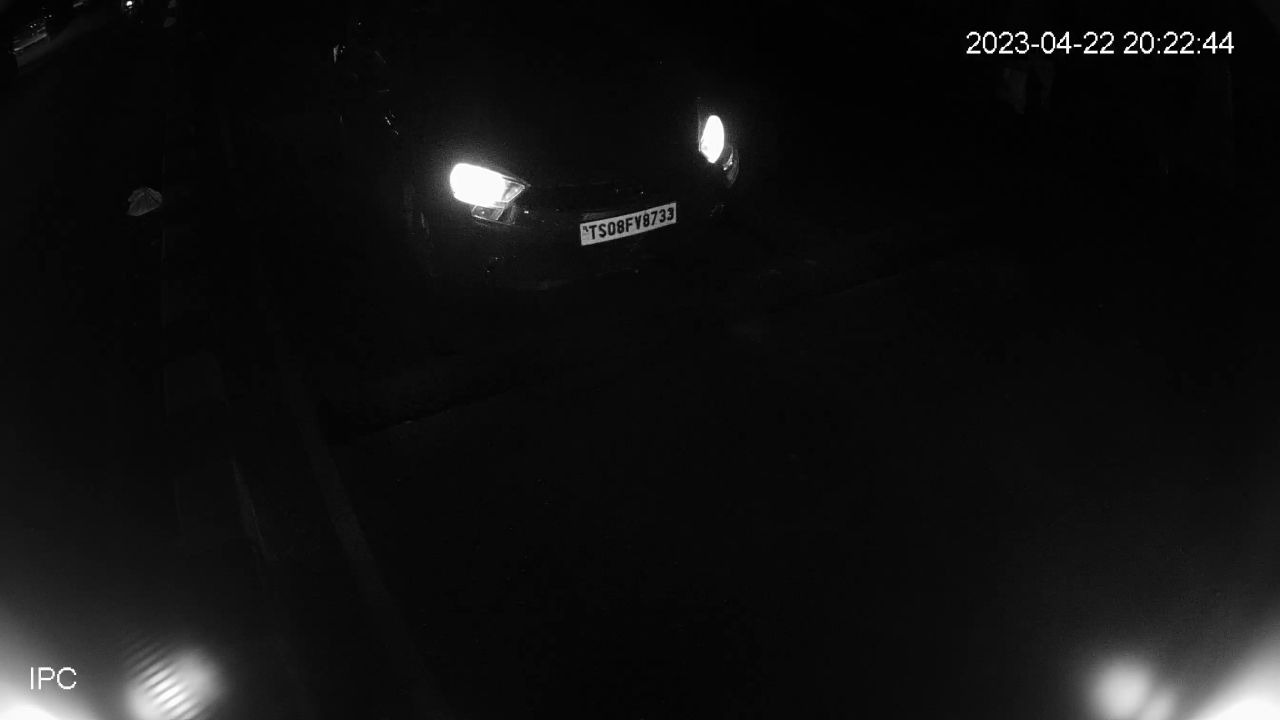license_plate: (575, 196, 681, 249)
